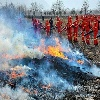fire: (2, 28, 85, 96)
